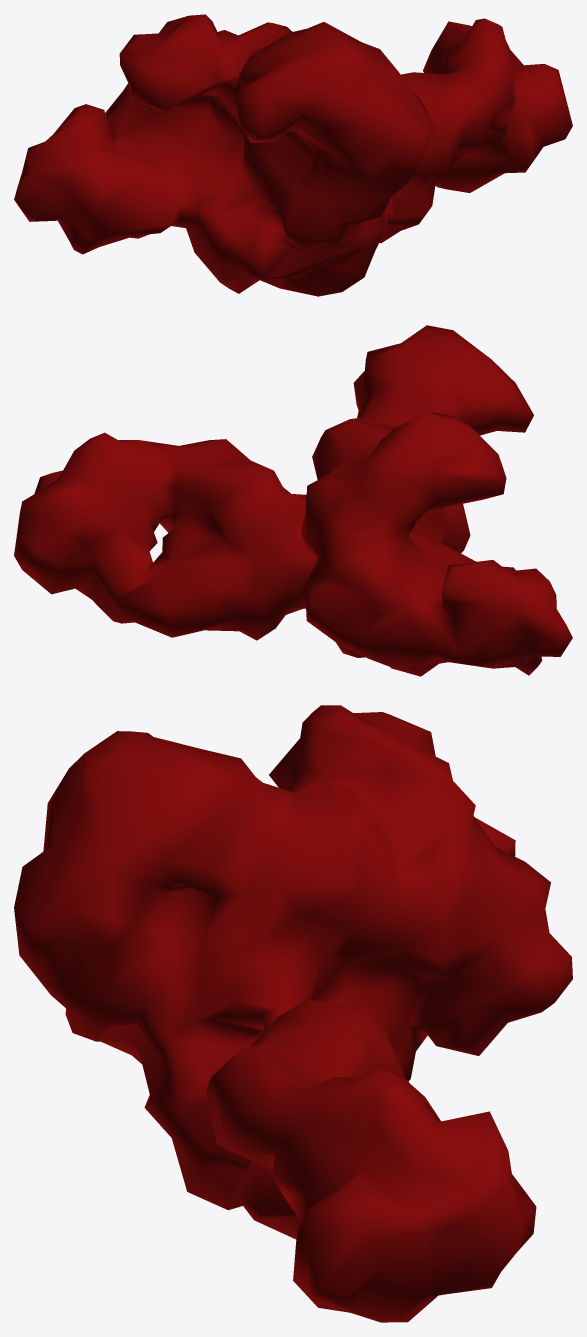
The model's file is Cyt_RT.fbx.
3 renders of one model, top to bottom at view 1: azimuth 30°, elevation 25°; view 2: azimuth 150°, elevation 25°; view 3: azimuth 270°, elevation 25°, orthographic. The views are drawn at different scales.
Parts seen in each view (by area): view 1: CMS1hys_prot; view 2: CMS1hys_prot; view 3: CMS1hys_prot.
Part boxes in pixels (left/top/right/bottom): CMS1hys_prot: left=14, top=14, right=572, bottom=296; CMS1hys_prot: left=14, top=325, right=572, bottom=676; CMS1hys_prot: left=14, top=705, right=572, bottom=1322.
Size of the model in its own units: 165 by 84.17 by 97.27.
